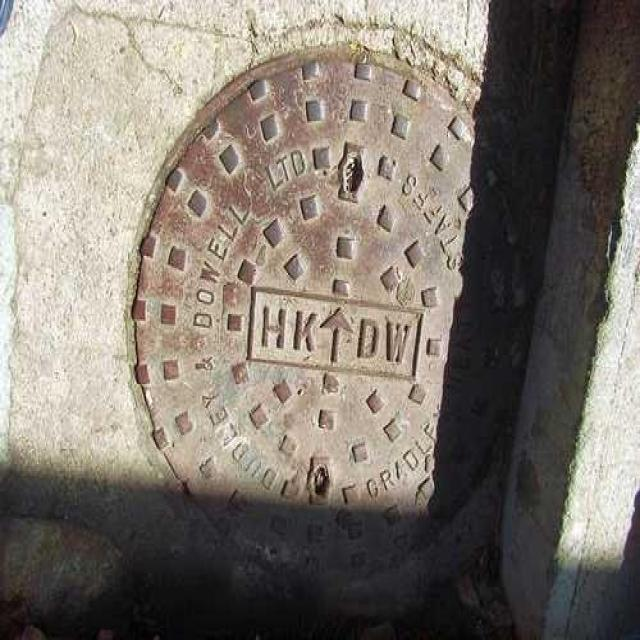manhole: (133, 41, 539, 585)
